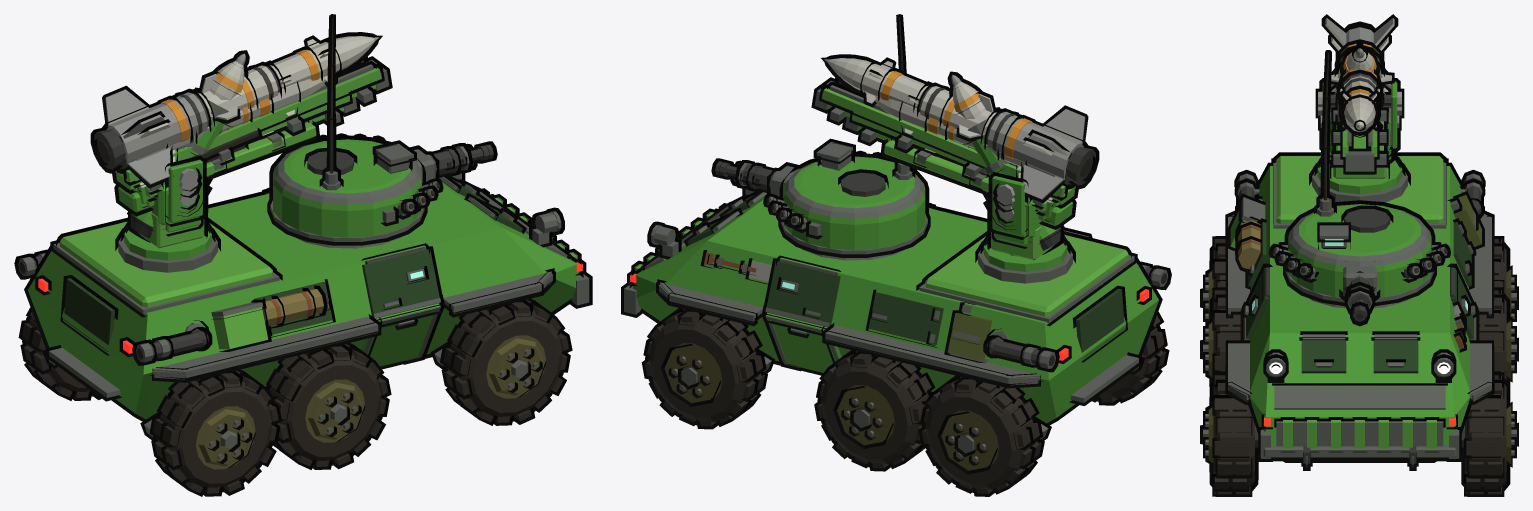
The model's file is ratel_btr_noline.glb.
The picture shows the model from 3 angles, left to right: view 1: azimuth 30°, elevation 25°; view 2: azimuth 150°, elevation 25°; view 3: azimuth 270°, elevation 25°; orthographic projection. The views are drawn at different scales.
Visible parts, largest first — view 1: BTR_Hull, BTR_Wheel_R3, BTR_Wheel_R1, BTR_Wheel_R2, BTR_TurretBody, BTR_LauncherDeck, BTR_SideHatch-1, BTR_SideLedge-1, BTR_StageMissile1, BTR_StageLauncherRail-1, BTR_RearDoor, BTR_Ramp-1 (+31 smaller); view 2: BTR_Hull, BTR_Wheel_L3, BTR_Wheel_L1, BTR_Wheel_L2, BTR_TurretBody, BTR_LauncherDeck, BTR_SideHatch1, BTR_SideLedge1, BTR_StageLauncherRail1, BTR_SideDoor1, BTR_StageMissile1, BTR_SideLedgeLip1 (+29 smaller); view 3: BTR_Hull, BTR_TurretBody, BTR_LauncherDeck, BTR_Wheel_R1, BTR_Wheel_L1, BTR_GlacisPlate, BTR_GrilleBack, BTR_Bumper, BTR_Wheel_R2, BTR_Wheel_L2, BTR_SmokeLaunchers, BTR_SideLedge1 (+46 smaller).
Part boxes in pixels (x1,y1,x2,y2): BTR_Hull: (24,182,583,421); BTR_Wheel_R3: (149,369,281,496); BTR_Wheel_R1: (440,298,572,425); BTR_Wheel_R2: (266,343,391,469); BTR_TurretBody: (269,135,425,237); BTR_LauncherDeck: (56,217,276,307); BTR_SideHatch-1: (362,246,443,320); BTR_SideLedge-1: (149,314,381,379); BTR_StageMissile1: (102,88,211,170); BTR_StageLauncherRail-1: (122,63,384,185); BTR_RearDoor: (60,275,118,355); BTR_Ramp-1: (361,303,443,369); BTR_Hull: (629,197,1162,425); BTR_Wheel_L3: (918,375,1044,496); BTR_Wheel_L1: (641,308,767,429); BTR_Wheel_L2: (814,350,935,471); BTR_TurretBody: (779,152,929,250); BTR_LauncherDeck: (922,231,1131,316); BTR_SideHatch1: (762,258,840,328); BTR_SideLedge1: (822,323,1042,385); BTR_StageLauncherRail1: (819,84,1068,200); BTR_SideDoor1: (865,289,943,347); BTR_StageMissile1: (984,108,1088,185); BTR_SideLedgeLip1: (822,330,1040,388); BTR_Hull: (1246,162,1473,462); BTR_TurretBody: (1284,200,1435,297); BTR_LauncherDeck: (1273,152,1446,224); BTR_Wheel_R1: (1200,372,1258,496); BTR_Wheel_L1: (1461,372,1518,496); BTR_GlacisPlate: (1272,383,1447,409); BTR_GrilleBack: (1274,418,1445,446); BTR_Bumper: (1260,443,1459,461); BTR_Wheel_R2: (1200,287,1240,386); BTR_Wheel_L2: (1479,287,1518,384); BTR_SmokeLaunchers: (1269,242,1450,282); BTR_SideLedge1: (1470,210,1494,314).
Bounding box in the file's own units: 6.25 × 4.92 × 3.72.
